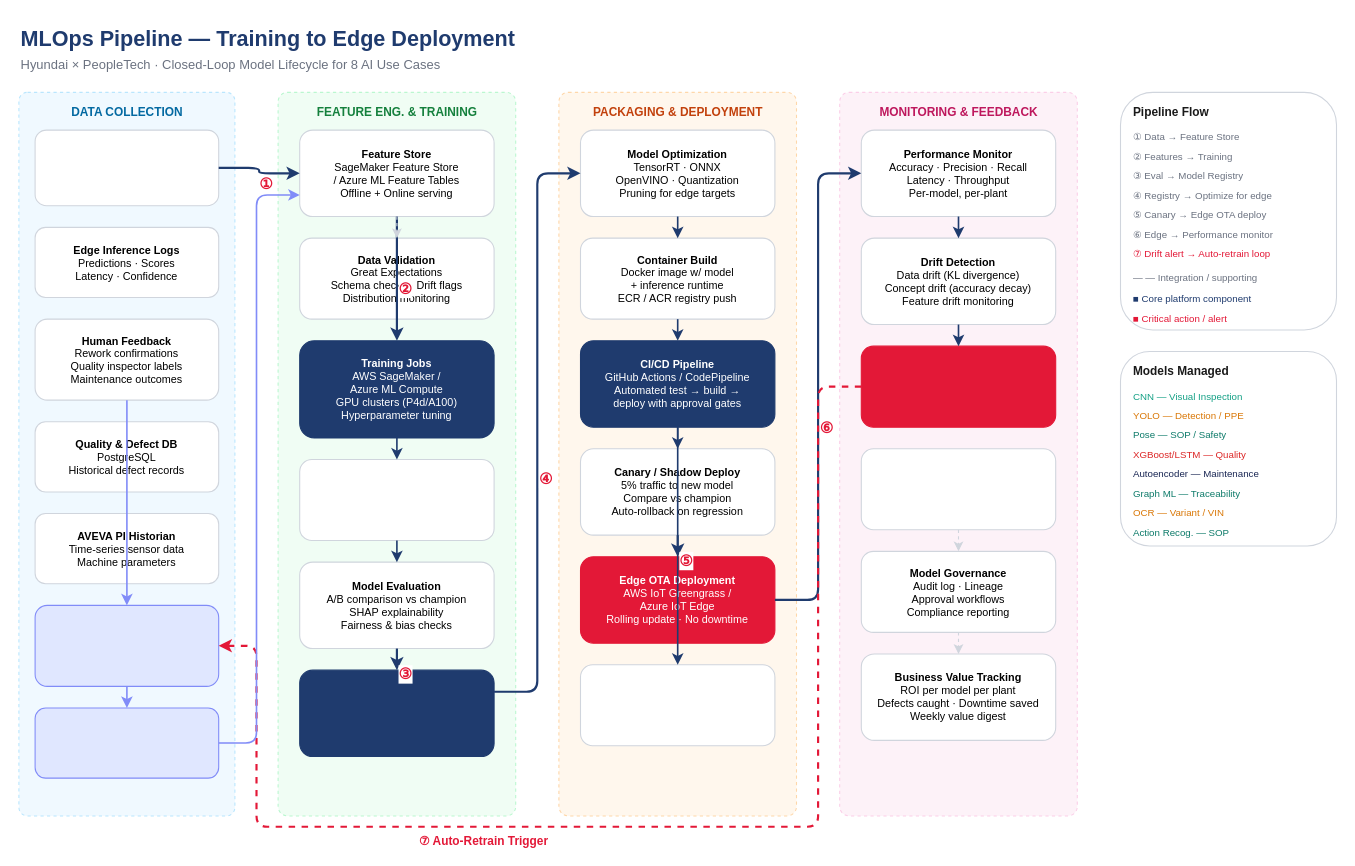
Some shapes in this 1355 by 866 pixel diagram are drawn without their labels. The shapes that lost their labels are listed below. From the top down, each one's box as (x1, y1, x2, y2) in pixels, then its label:
(34, 129, 219, 206): Plant Floor Sensors Cameras · IoT · RFID OPC-UA · Torque tools
(860, 345, 1056, 427): Alert Engine Threshold-based triggers Auto-retrain trigger Slack / PagerDuty
(299, 458, 494, 541): Experiment Tracking MLflow Metrics · Parameters Artifacts · Comparisons
(860, 448, 1056, 530): MLOps Dashboard Model health overview Training history Deployment status
(34, 604, 219, 686): Labeling Pipeline Active learning selection Annotation queue Label QA review
(299, 669, 494, 757): Model Registry MLflow Model Registry Staging → Production Version lineage & tags
(579, 664, 775, 746): Cloud Endpoint SageMaker Endpoint / Azure ML Managed Batch inference jobs
(34, 707, 219, 778): Dataset Versioning DVC / S3 versioned buckets Train / Val / Test splits
